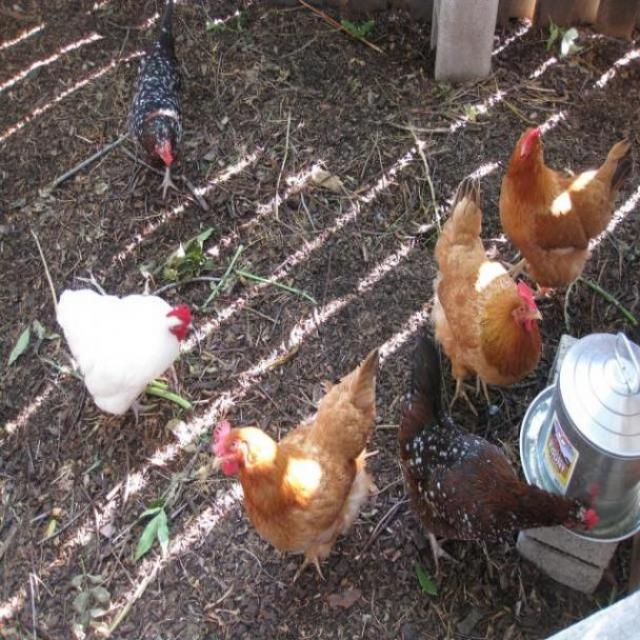Chicken: (397, 333, 598, 574), (214, 347, 380, 581), (428, 195, 555, 405), (499, 127, 633, 303), (57, 289, 195, 426), (127, 0, 183, 199)
